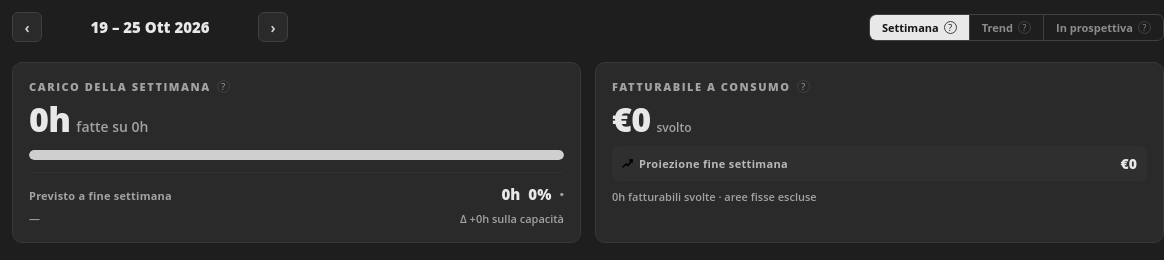
it: ProgressScreen / Settimana: limiti e budget › In prospettiva senza tetti cumulativi lo dice
Click the button "In prospettiva". click: (1094, 27)
box: [1056, 20, 1133, 34]
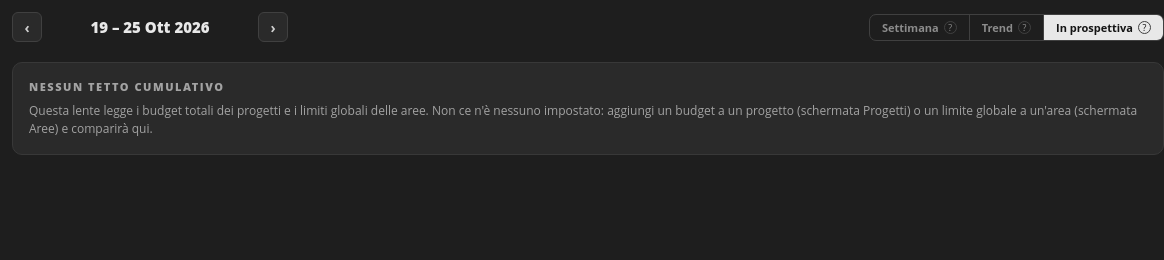
Result: the text "Nessun tetto cumulativo" is shown at [29, 79, 224, 94]
